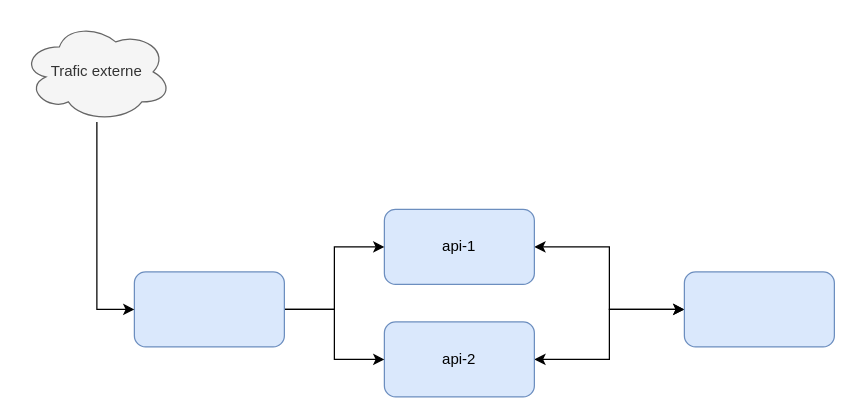
This 856x419 diagram has some shape labels left out. The centre of each missing label's shape, as x and y in pixels:
nginx: (208,309)
redis: (758,309)
